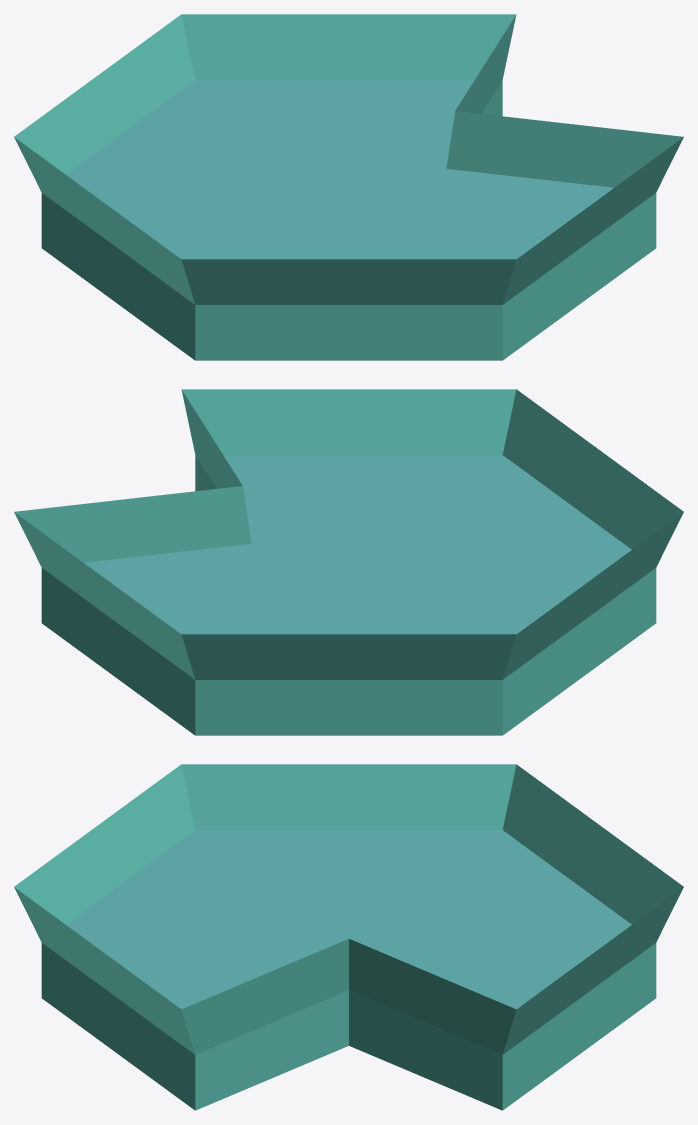
The model's file is lily_small.glb.
3 renders of one model, top to bottom at view 1: azimuth 30°, elevation 25°; view 2: azimuth 150°, elevation 25°; view 3: azimuth 270°, elevation 25°, orthographic.
Visible parts, largest first — view 1: lily_small; view 2: lily_small; view 3: lily_small.
Boxes of the visible parts, left/top/right/bottom form: lily_small: left=14, top=14, right=683, bottom=360; lily_small: left=14, top=389, right=683, bottom=735; lily_small: left=14, top=764, right=683, bottom=1110.
Bounding box in the file's own units: 0.1888 × 0.04 × 0.218.
